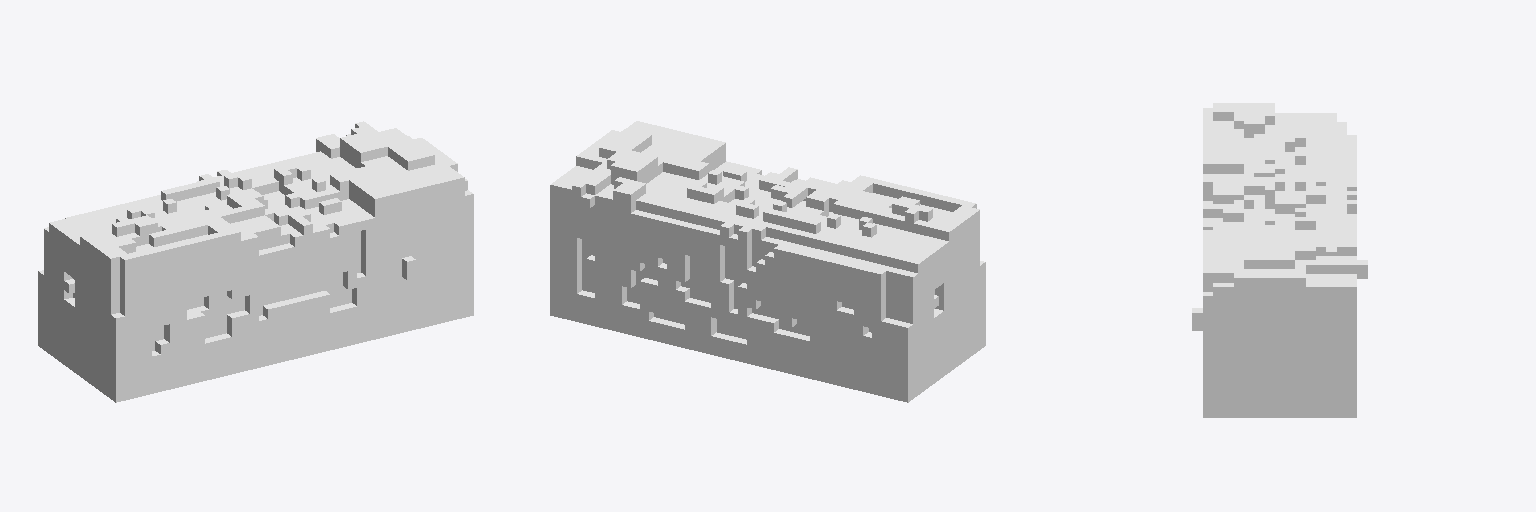
Rendered from newall3-0-newal1.obj.
The picture shows the model from 3 angles: view 1: azimuth 30°, elevation 25°; view 2: azimuth 150°, elevation 25°; view 3: azimuth 270°, elevation 25°; orthographic projection.
Parts seen in each view (by area): view 1: newal1; view 2: newal1; view 3: newal1.
Boxes of the visible parts, box(x1,y1,x2,y2) form: newal1: box(38, 121, 473, 402); newal1: box(550, 121, 985, 402); newal1: box(1192, 103, 1367, 417).
Size of the model in its own units: 4 by 1.6 by 1.7.